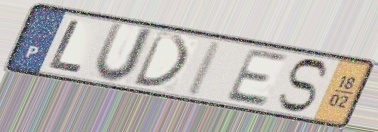D: (130, 30, 193, 90)
E: (221, 47, 289, 109)
I: (182, 38, 226, 99)
L: (45, 18, 86, 75)
S: (275, 57, 330, 114)
U: (91, 20, 158, 85)
